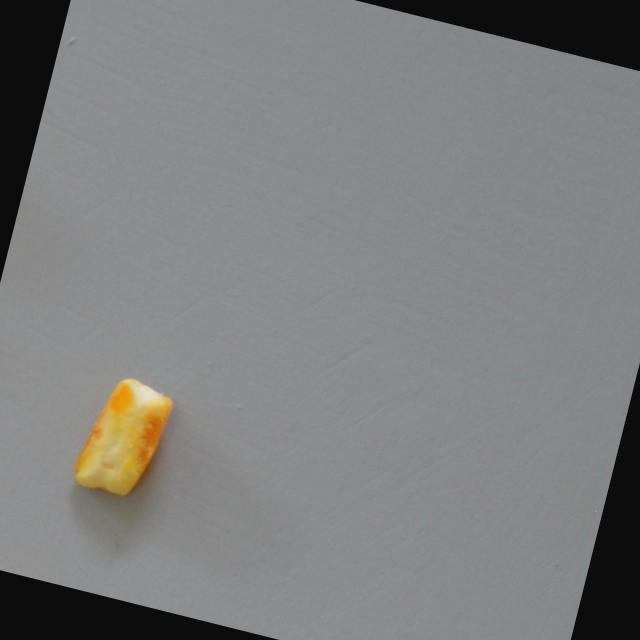dañado: (58, 364, 182, 511)
